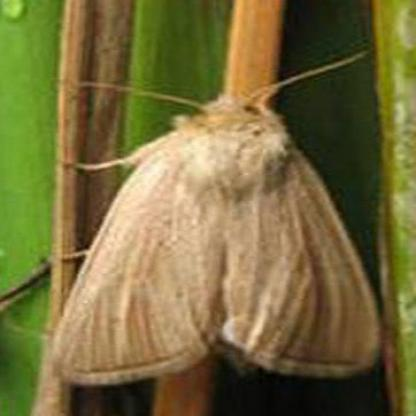stem-borer: (53, 47, 384, 390)
